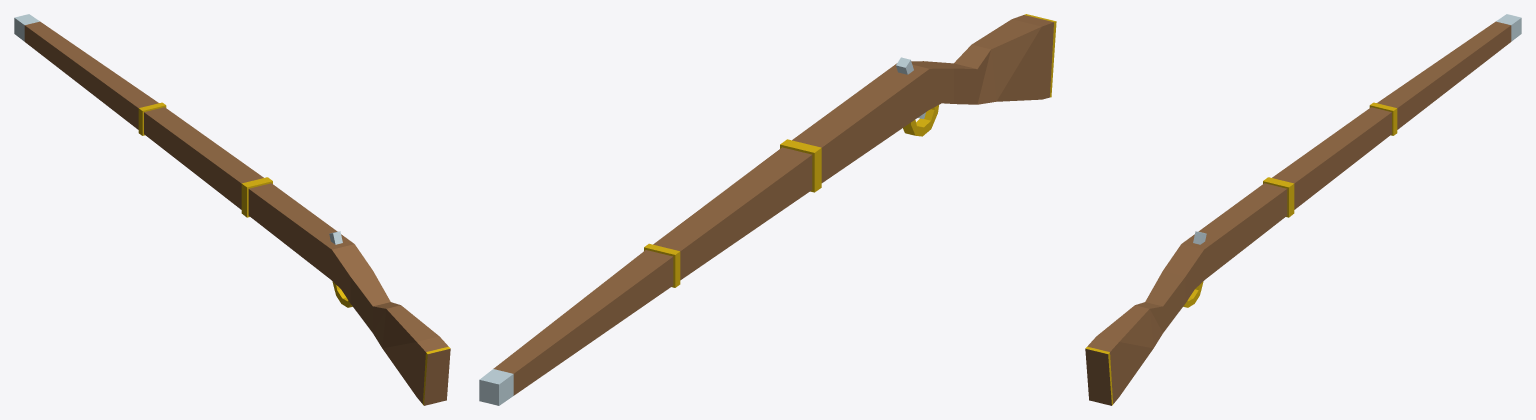
The model's file is Rifle.dae.
3 views of the same model, side by side, from view 1: azimuth 30°, elevation 25°; view 2: azimuth 150°, elevation 25°; view 3: azimuth 330°, elevation 25° (orthographic). The views are drawn at different scales.
Visible parts, largest first — view 1: Cube; view 2: Cube; view 3: Cube.
Boxes of the visible parts, x1,y1,x2,y2 form: Cube: (14, 14, 450, 405); Cube: (479, 14, 1056, 405); Cube: (1085, 14, 1521, 405).
Bounding box in the file's own units: 1.11 × 30.81 × 4.02.
Materials: 1 (1 with a texture image).
